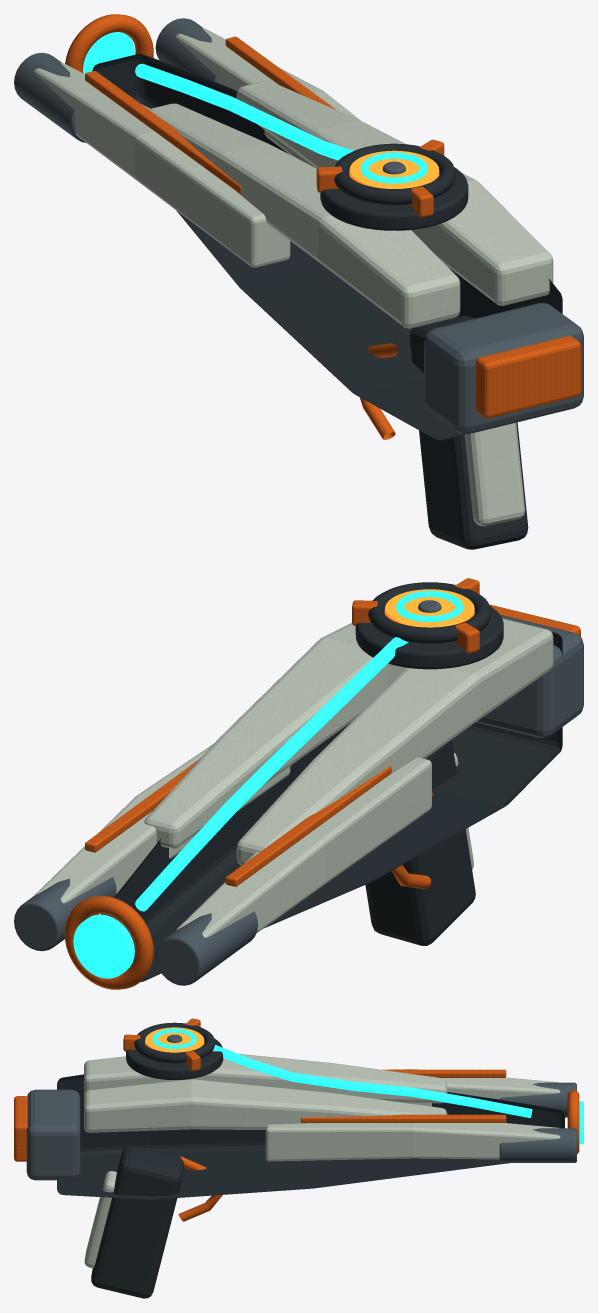
The model's file is solar_nomad_disc_launcher.glb.
The picture shows the model from 3 angles, top to bottom: view 1: azimuth 30°, elevation 25°; view 2: azimuth 150°, elevation 25°; view 3: azimuth 270°, elevation 25°; orthographic projection. The views are drawn at different scales.
Visible parts, largest first — view 1: SolarNomadDiscLauncher_Ceramicivory, SolarNomadDiscLauncher_Graphitemechanism, SolarNomadDiscLauncher_Brushedgunmetal, SolarNomadDiscLauncher_Solaralloy, SolarNomadDiscLauncher_Containedplasma, DiscRotor_Graphitemechanism, ChargeCore_Graphitemechanism, ChargeCore_Solarcharge, DiscRotor_Solaralloy, ChargeCore_Containedplasma; view 2: SolarNomadDiscLauncher_Ceramicivory, SolarNomadDiscLauncher_Graphitemechanism, SolarNomadDiscLauncher_Brushedgunmetal, SolarNomadDiscLauncher_Solaralloy, SolarNomadDiscLauncher_Containedplasma, DiscRotor_Graphitemechanism, ChargeCore_Graphitemechanism, ChargeCore_Solarcharge, DiscRotor_Solaralloy, ChargeCore_Containedplasma; view 3: SolarNomadDiscLauncher_Ceramicivory, SolarNomadDiscLauncher_Graphitemechanism, SolarNomadDiscLauncher_Brushedgunmetal, SolarNomadDiscLauncher_Solaralloy, SolarNomadDiscLauncher_Containedplasma, DiscRotor_Graphitemechanism, ChargeCore_Graphitemechanism, ChargeCore_Solarcharge, DiscRotor_Solaralloy, ChargeCore_Containedplasma.
Part boxes in pixels (box(x1,y1,x2,y2)): SolarNomadDiscLauncher_Ceramicivory: box(34, 28, 553, 526); SolarNomadDiscLauncher_Graphitemechanism: box(92, 54, 562, 549); SolarNomadDiscLauncher_Brushedgunmetal: box(14, 18, 583, 434); SolarNomadDiscLauncher_Solaralloy: box(65, 14, 580, 439); SolarNomadDiscLauncher_Containedplasma: box(83, 32, 353, 160); DiscRotor_Graphitemechanism: box(320, 167, 468, 230); ChargeCore_Graphitemechanism: box(334, 143, 455, 205); ChargeCore_Solarcharge: box(349, 150, 439, 188); DiscRotor_Solaralloy: box(316, 139, 444, 217); ChargeCore_Containedplasma: box(360, 152, 427, 183); SolarNomadDiscLauncher_Ceramicivory: box(34, 618, 553, 937); SolarNomadDiscLauncher_Graphitemechanism: box(100, 631, 562, 981); SolarNomadDiscLauncher_Brushedgunmetal: box(14, 614, 583, 985); SolarNomadDiscLauncher_Solaralloy: box(64, 604, 580, 989); SolarNomadDiscLauncher_Containedplasma: box(73, 637, 408, 978); DiscRotor_Graphitemechanism: box(355, 606, 503, 669); ChargeCore_Graphitemechanism: box(368, 582, 491, 643); ChargeCore_Solarcharge: box(384, 589, 474, 627); DiscRotor_Solaralloy: box(352, 578, 479, 653); ChargeCore_Containedplasma: box(396, 591, 463, 621); SolarNomadDiscLauncher_Ceramicivory: box(84, 1054, 560, 1268); SolarNomadDiscLauncher_Graphitemechanism: box(57, 1074, 564, 1298); SolarNomadDiscLauncher_Brushedgunmetal: box(26, 1082, 576, 1180); SolarNomadDiscLauncher_Solaralloy: box(14, 1069, 579, 1221); SolarNomadDiscLauncher_Containedplasma: box(213, 1045, 583, 1144); DiscRotor_Graphitemechanism: box(126, 1038, 223, 1080); ChargeCore_Graphitemechanism: box(134, 1022, 215, 1063); ChargeCore_Solarcharge: box(145, 1027, 204, 1052); DiscRotor_Solaralloy: box(123, 1018, 200, 1071); ChargeCore_Containedplasma: box(152, 1028, 196, 1048).
Bounding box in the file's own units: 0.43 × 0.7832 × 1.69.
Materials: 6 (2 with a texture image).
